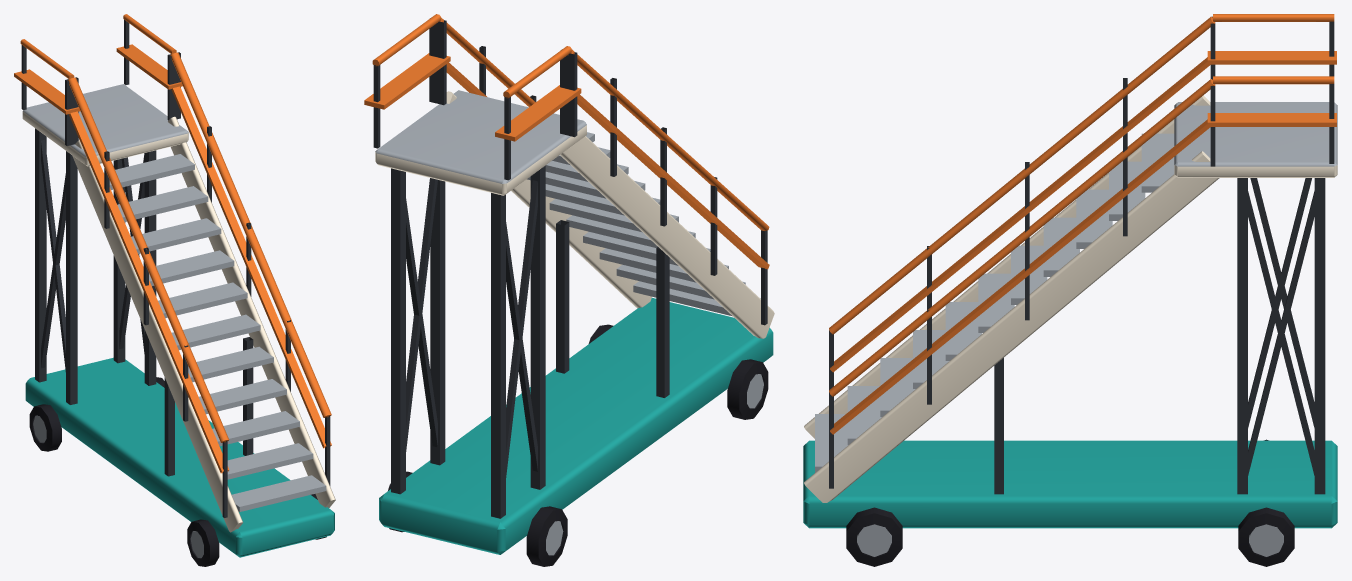
File: Escalera.fbx
The picture shows the model from 3 angles, left to right: view 1: azimuth 30°, elevation 25°; view 2: azimuth 150°, elevation 25°; view 3: azimuth 270°, elevation 25°; orthographic projection. The views are drawn at different scales.
Visible parts, largest first — view 1: Escalera; view 2: Escalera; view 3: Escalera.
Part boxes in pixels (box(x1,y1,x2,y2)): Escalera: box(14, 14, 335, 566); Escalera: box(364, 14, 774, 566); Escalera: box(803, 14, 1337, 566).
Bounding box in the file's own units: 3 × 9 × 9.
1 material, 1 textured.
